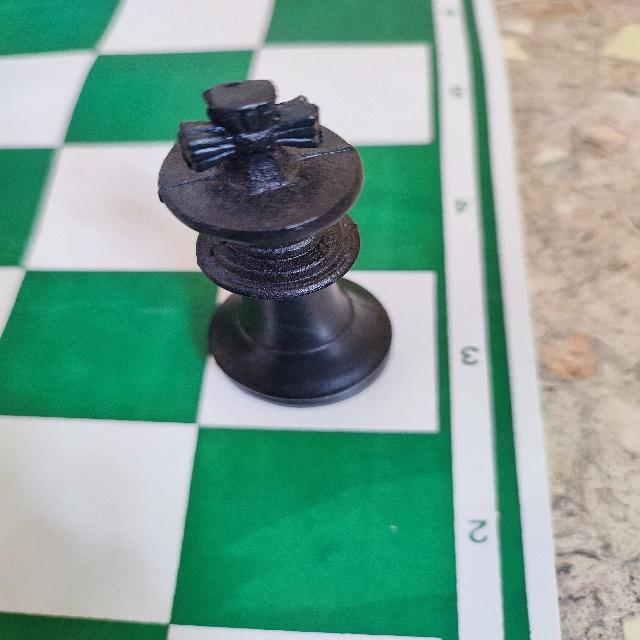King: (153, 75, 396, 411)
